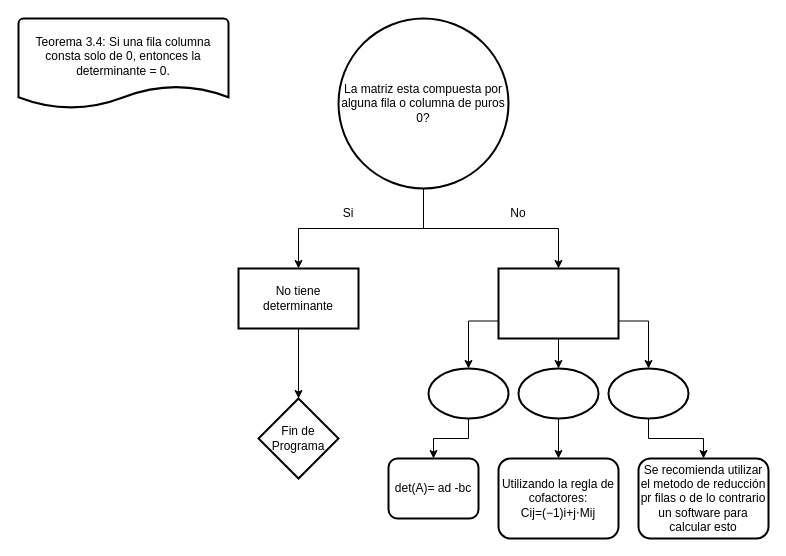
Some shapes in this 786 by 556 pixel diagram are drawn without their labels. The centre of each missing label's shape, as x and y in pixels:
2 x 2: the point at 468,393
3 x 3: the point at 558,393
De que tamaño es la Matriz?: the point at 558,303
Mayor a 3 x 3: the point at 648,393
